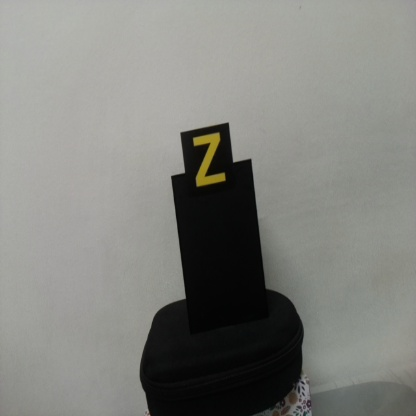id_15: (181, 131, 233, 191)
